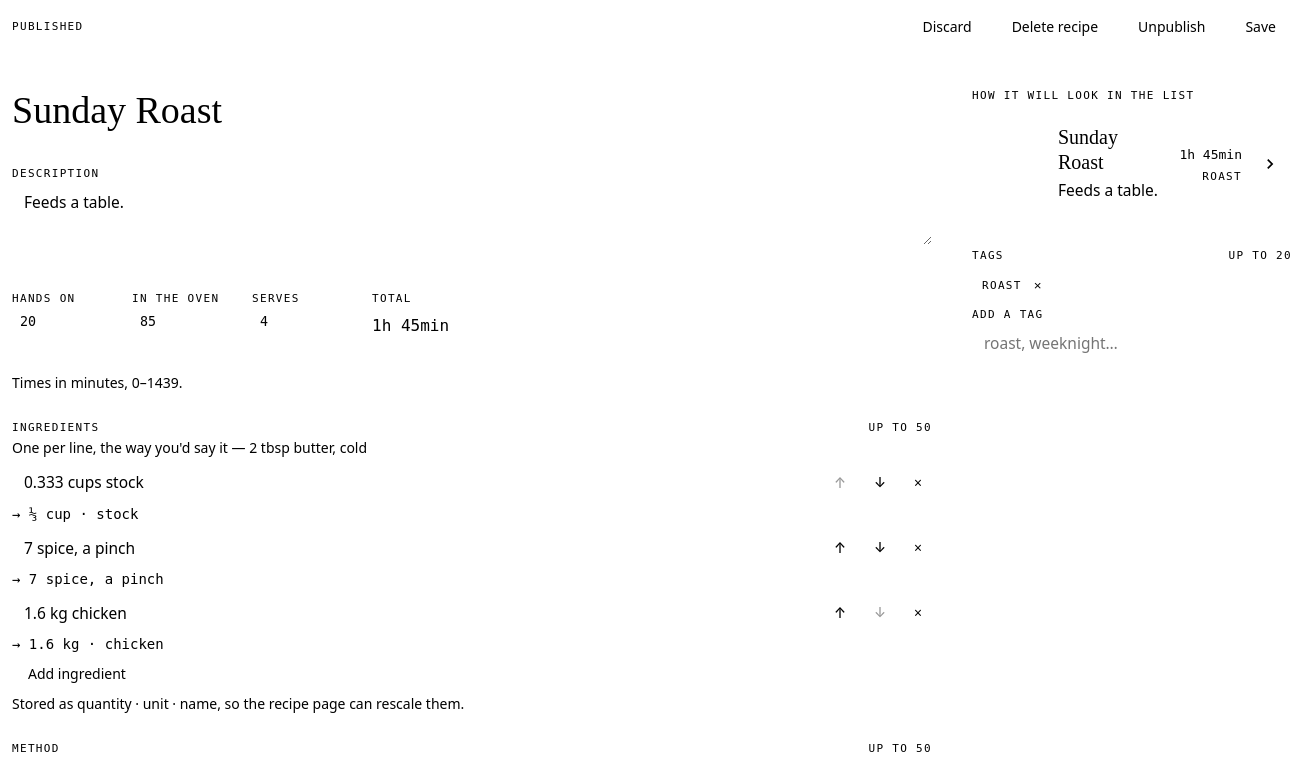
Test: RecipeFormPage — existing recipe › sends an untouched recipe back unchanged
Click the button "Save" at point(1261, 27), box [1229,12,1292,42]
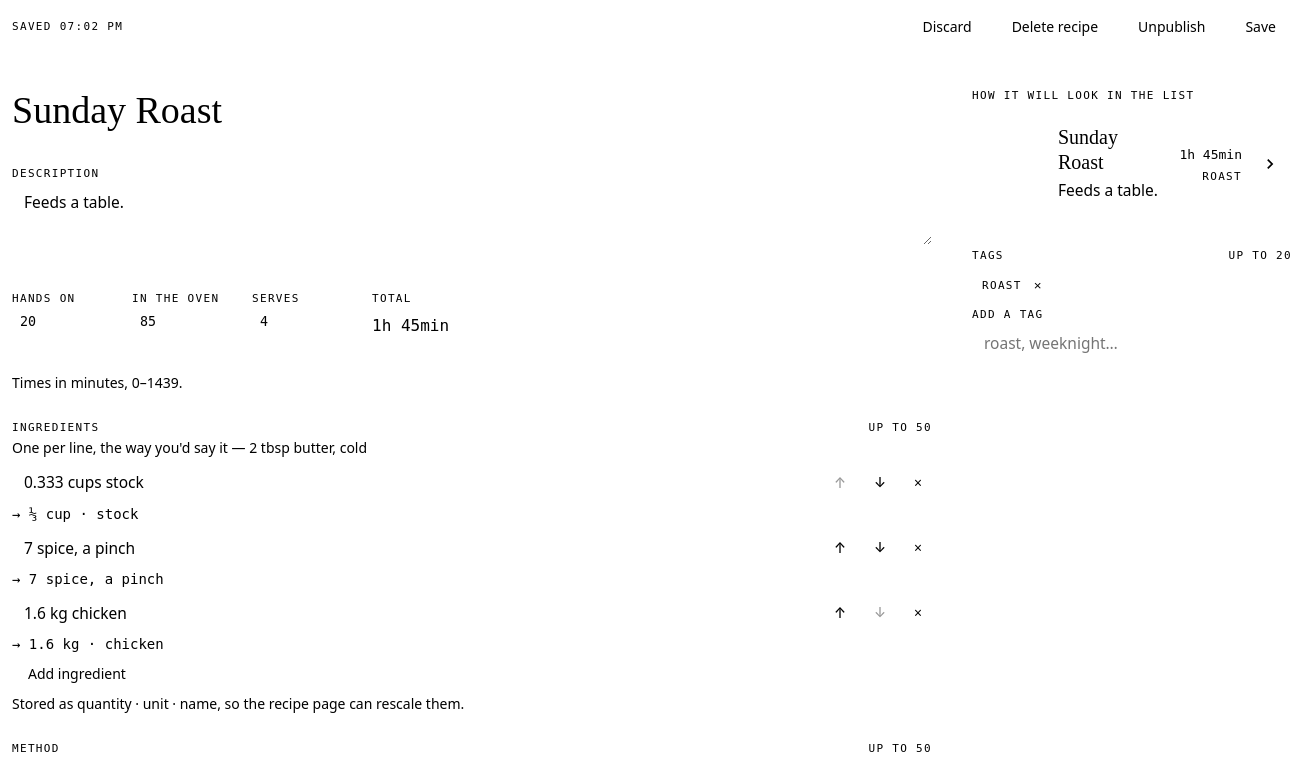
Result: the text "Saved 07:02 PM" is shown at [12,22,123,32]
